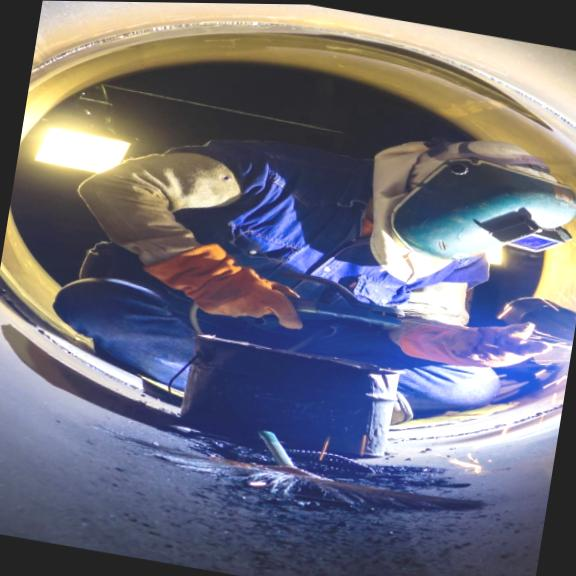no_safety_vest: (149, 112, 489, 376)
